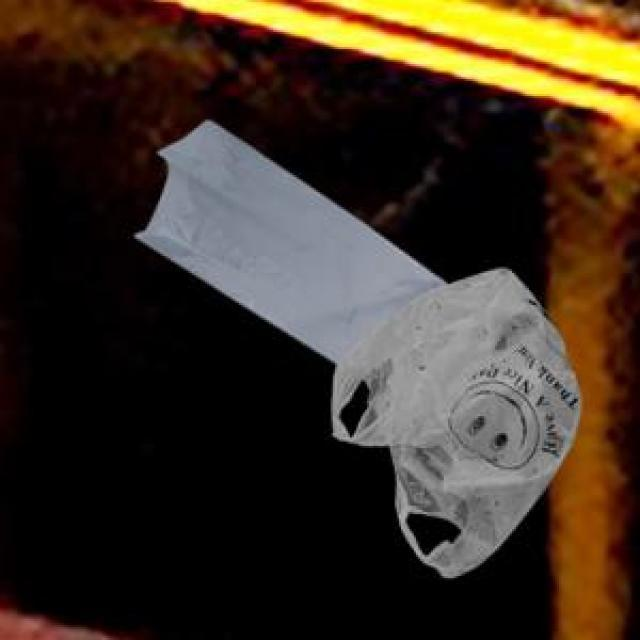waste: (136, 122, 580, 577)
